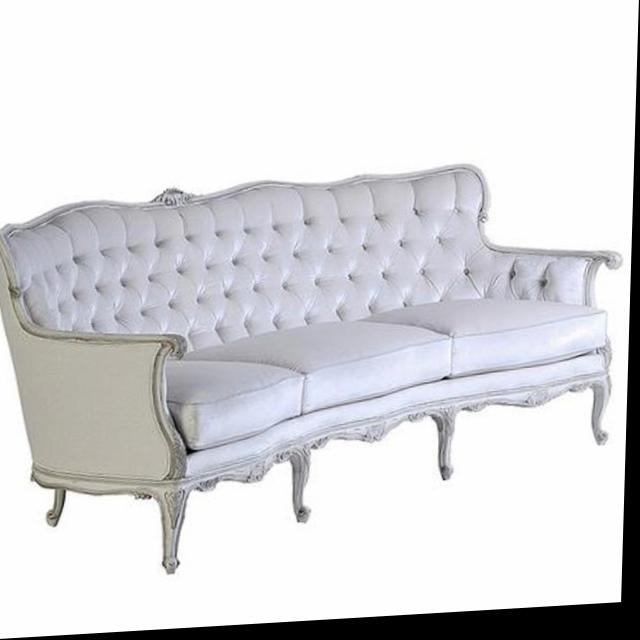Sofa: (0, 160, 630, 585)
